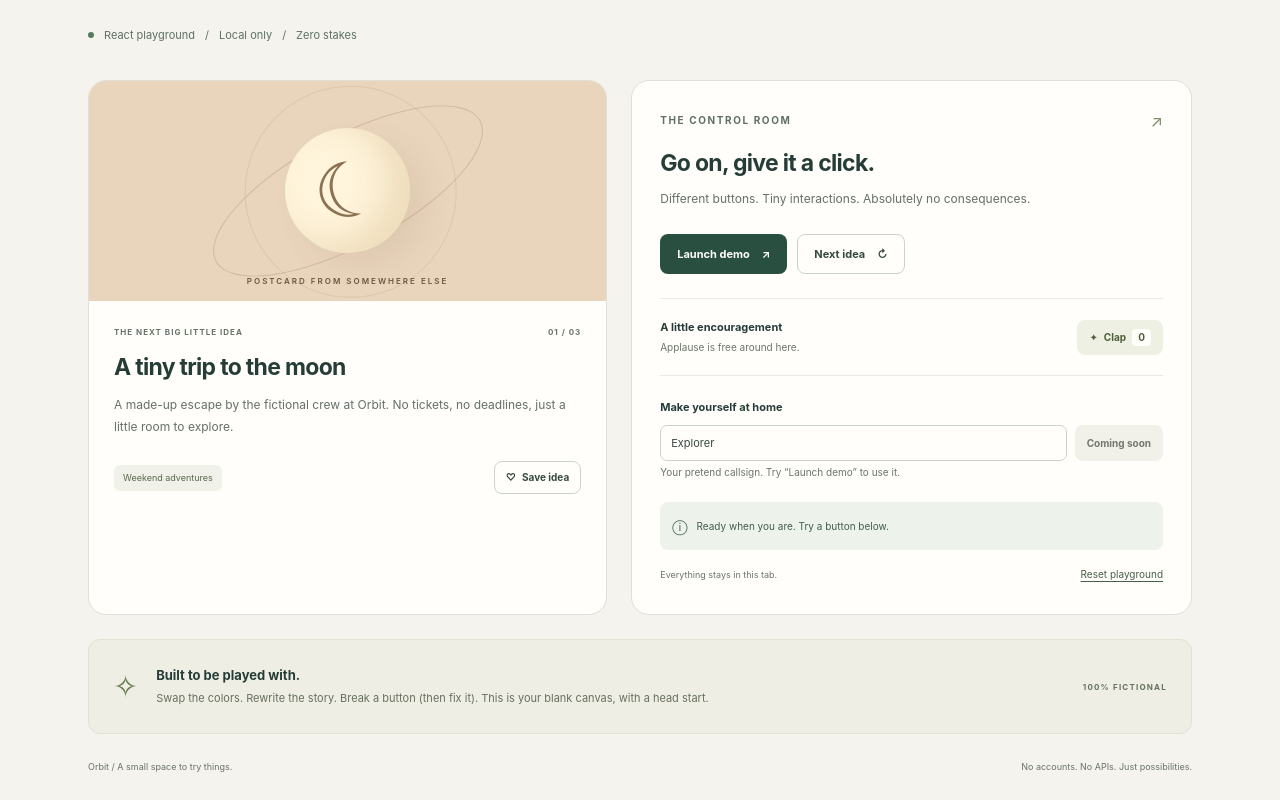
it: Orbit playground › toggles the saved state on and off
The width and height of the screenshot is (1280, 800).
(page scrolled)
Click the button "♡ Save idea": point(538, 478) [494,461,581,494]
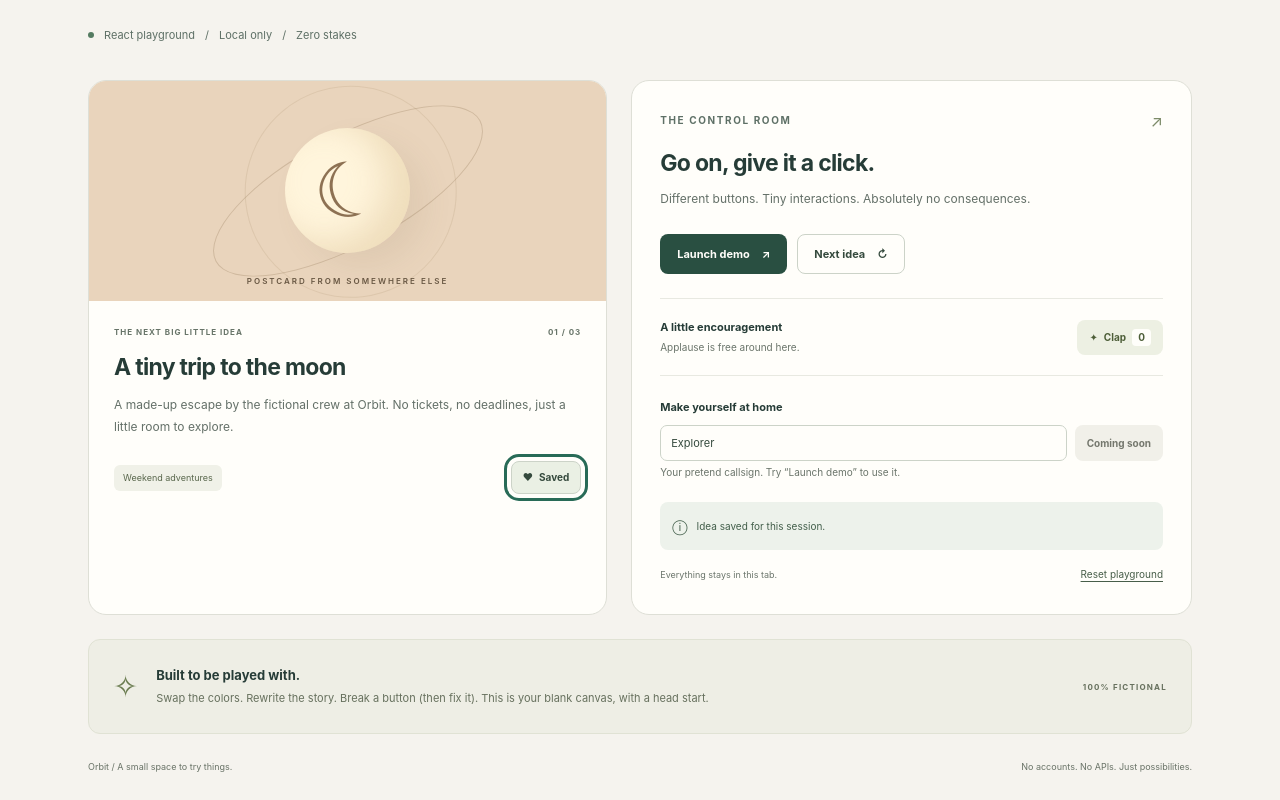
Check: the message shows "Idea saved for this session.", box [696,520,825,532]
Click the button "♥ Saved": point(546, 478) [511,461,581,494]
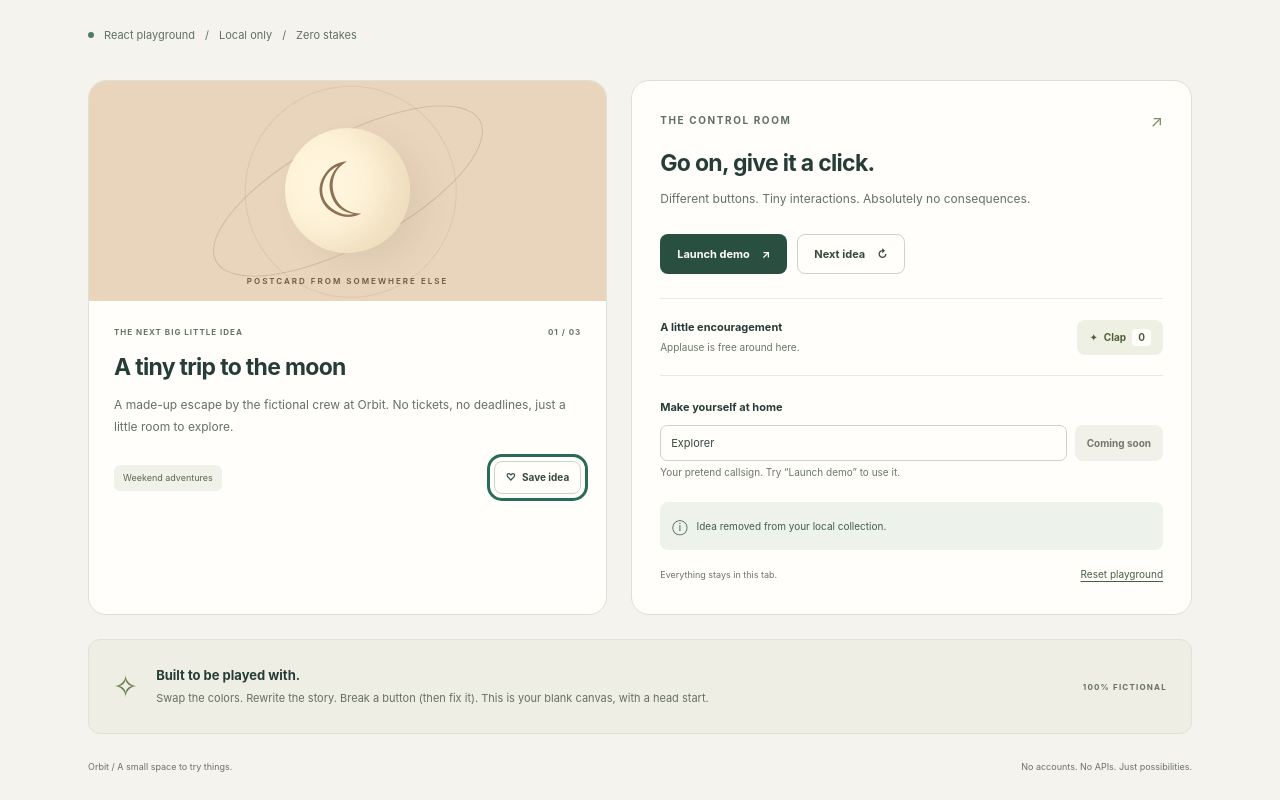
Check: the message shows "Idea removed", box [696,520,886,532]
